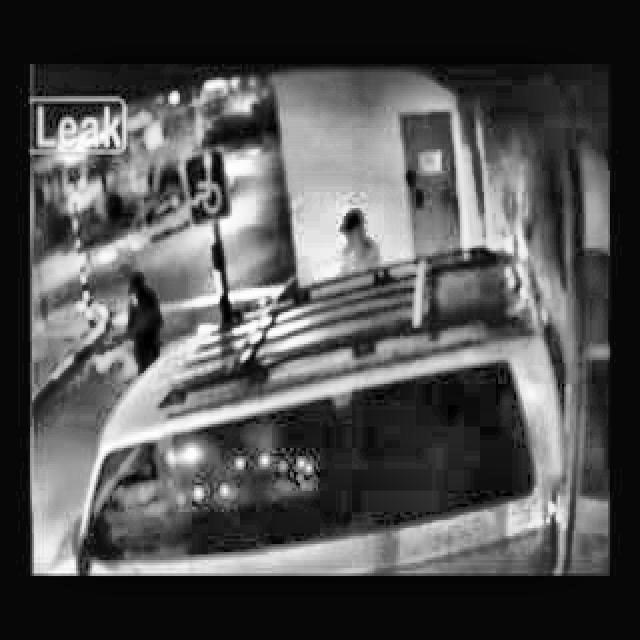burglary: (505, 206, 608, 574)
